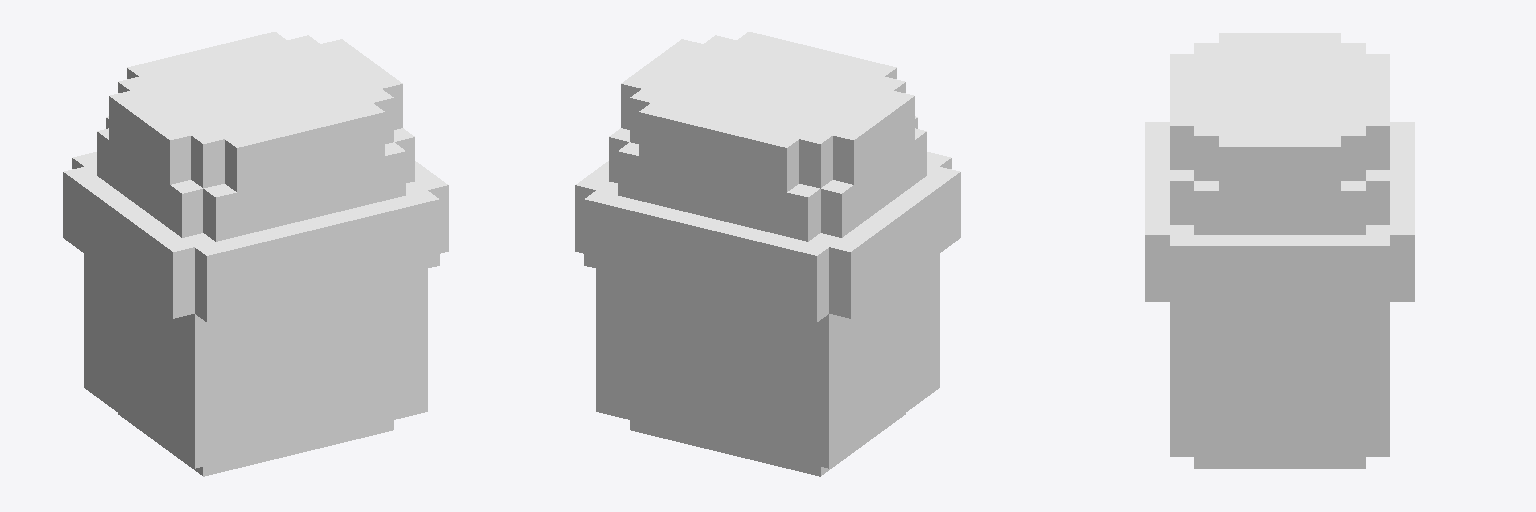
File: thiefHead.obj
3 renders of one model, left to right at view 1: azimuth 30°, elevation 25°; view 2: azimuth 150°, elevation 25°; view 3: azimuth 270°, elevation 25°, orthographic.
Parts seen in each view (by area): view 1: object 1; view 2: object 1; view 3: object 1.
Boxes of the visible parts, box(x1,y1,x2,y2) form: object 1: box(63, 32, 448, 476); object 1: box(575, 32, 960, 476); object 1: box(1145, 33, 1414, 468).
Size of the model in its own units: 1.3 by 1.5 by 1.1.